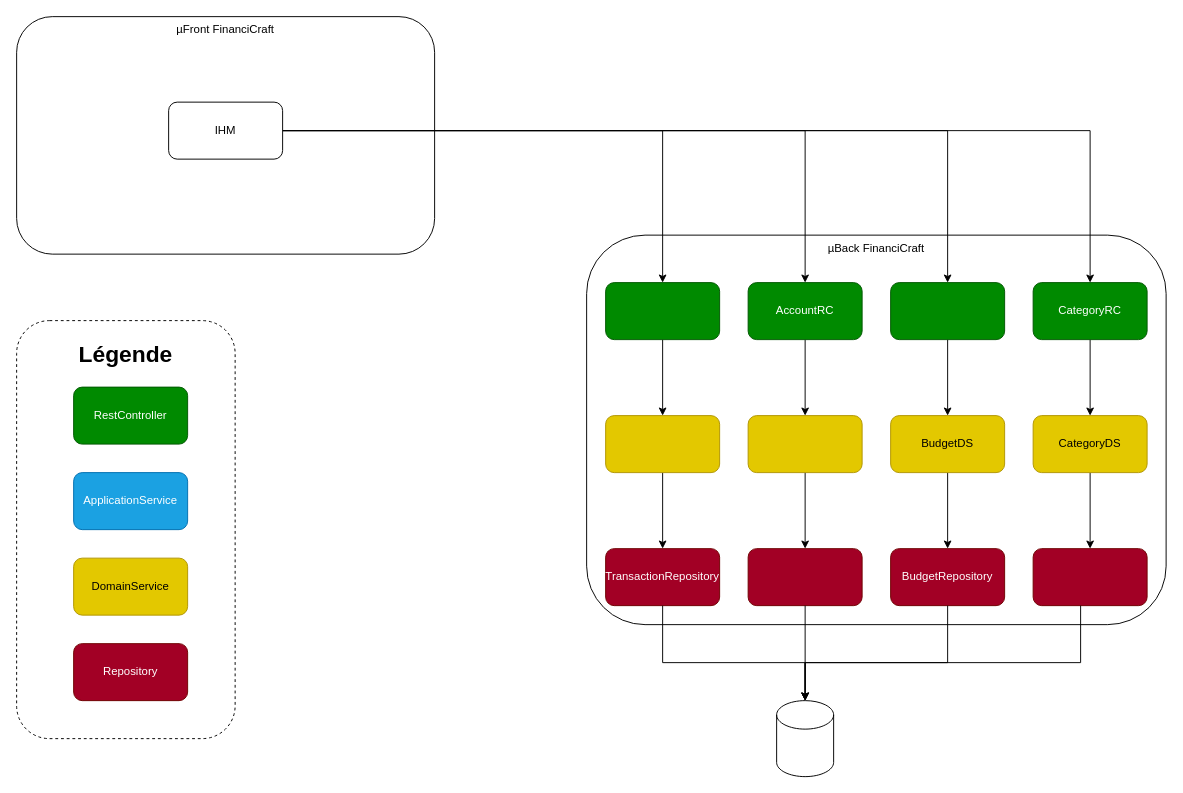
This 1183x793 diagram has some shape labels left out. The shapes that lost their labels are listed below. From the top down, each one's centre as x and y in pixels, then its label:
the point at 662,311: TransactionRC
the point at 947,311: BudgetRC
the point at 662,444: TransactionDS
the point at 804,444: AccountDS
the point at 804,577: AccountRepository
the point at 1089,577: CategoryRepository
the point at 805,738: BDD
